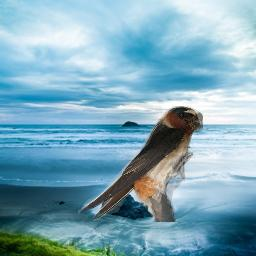Swallow: (78, 106, 203, 222)
